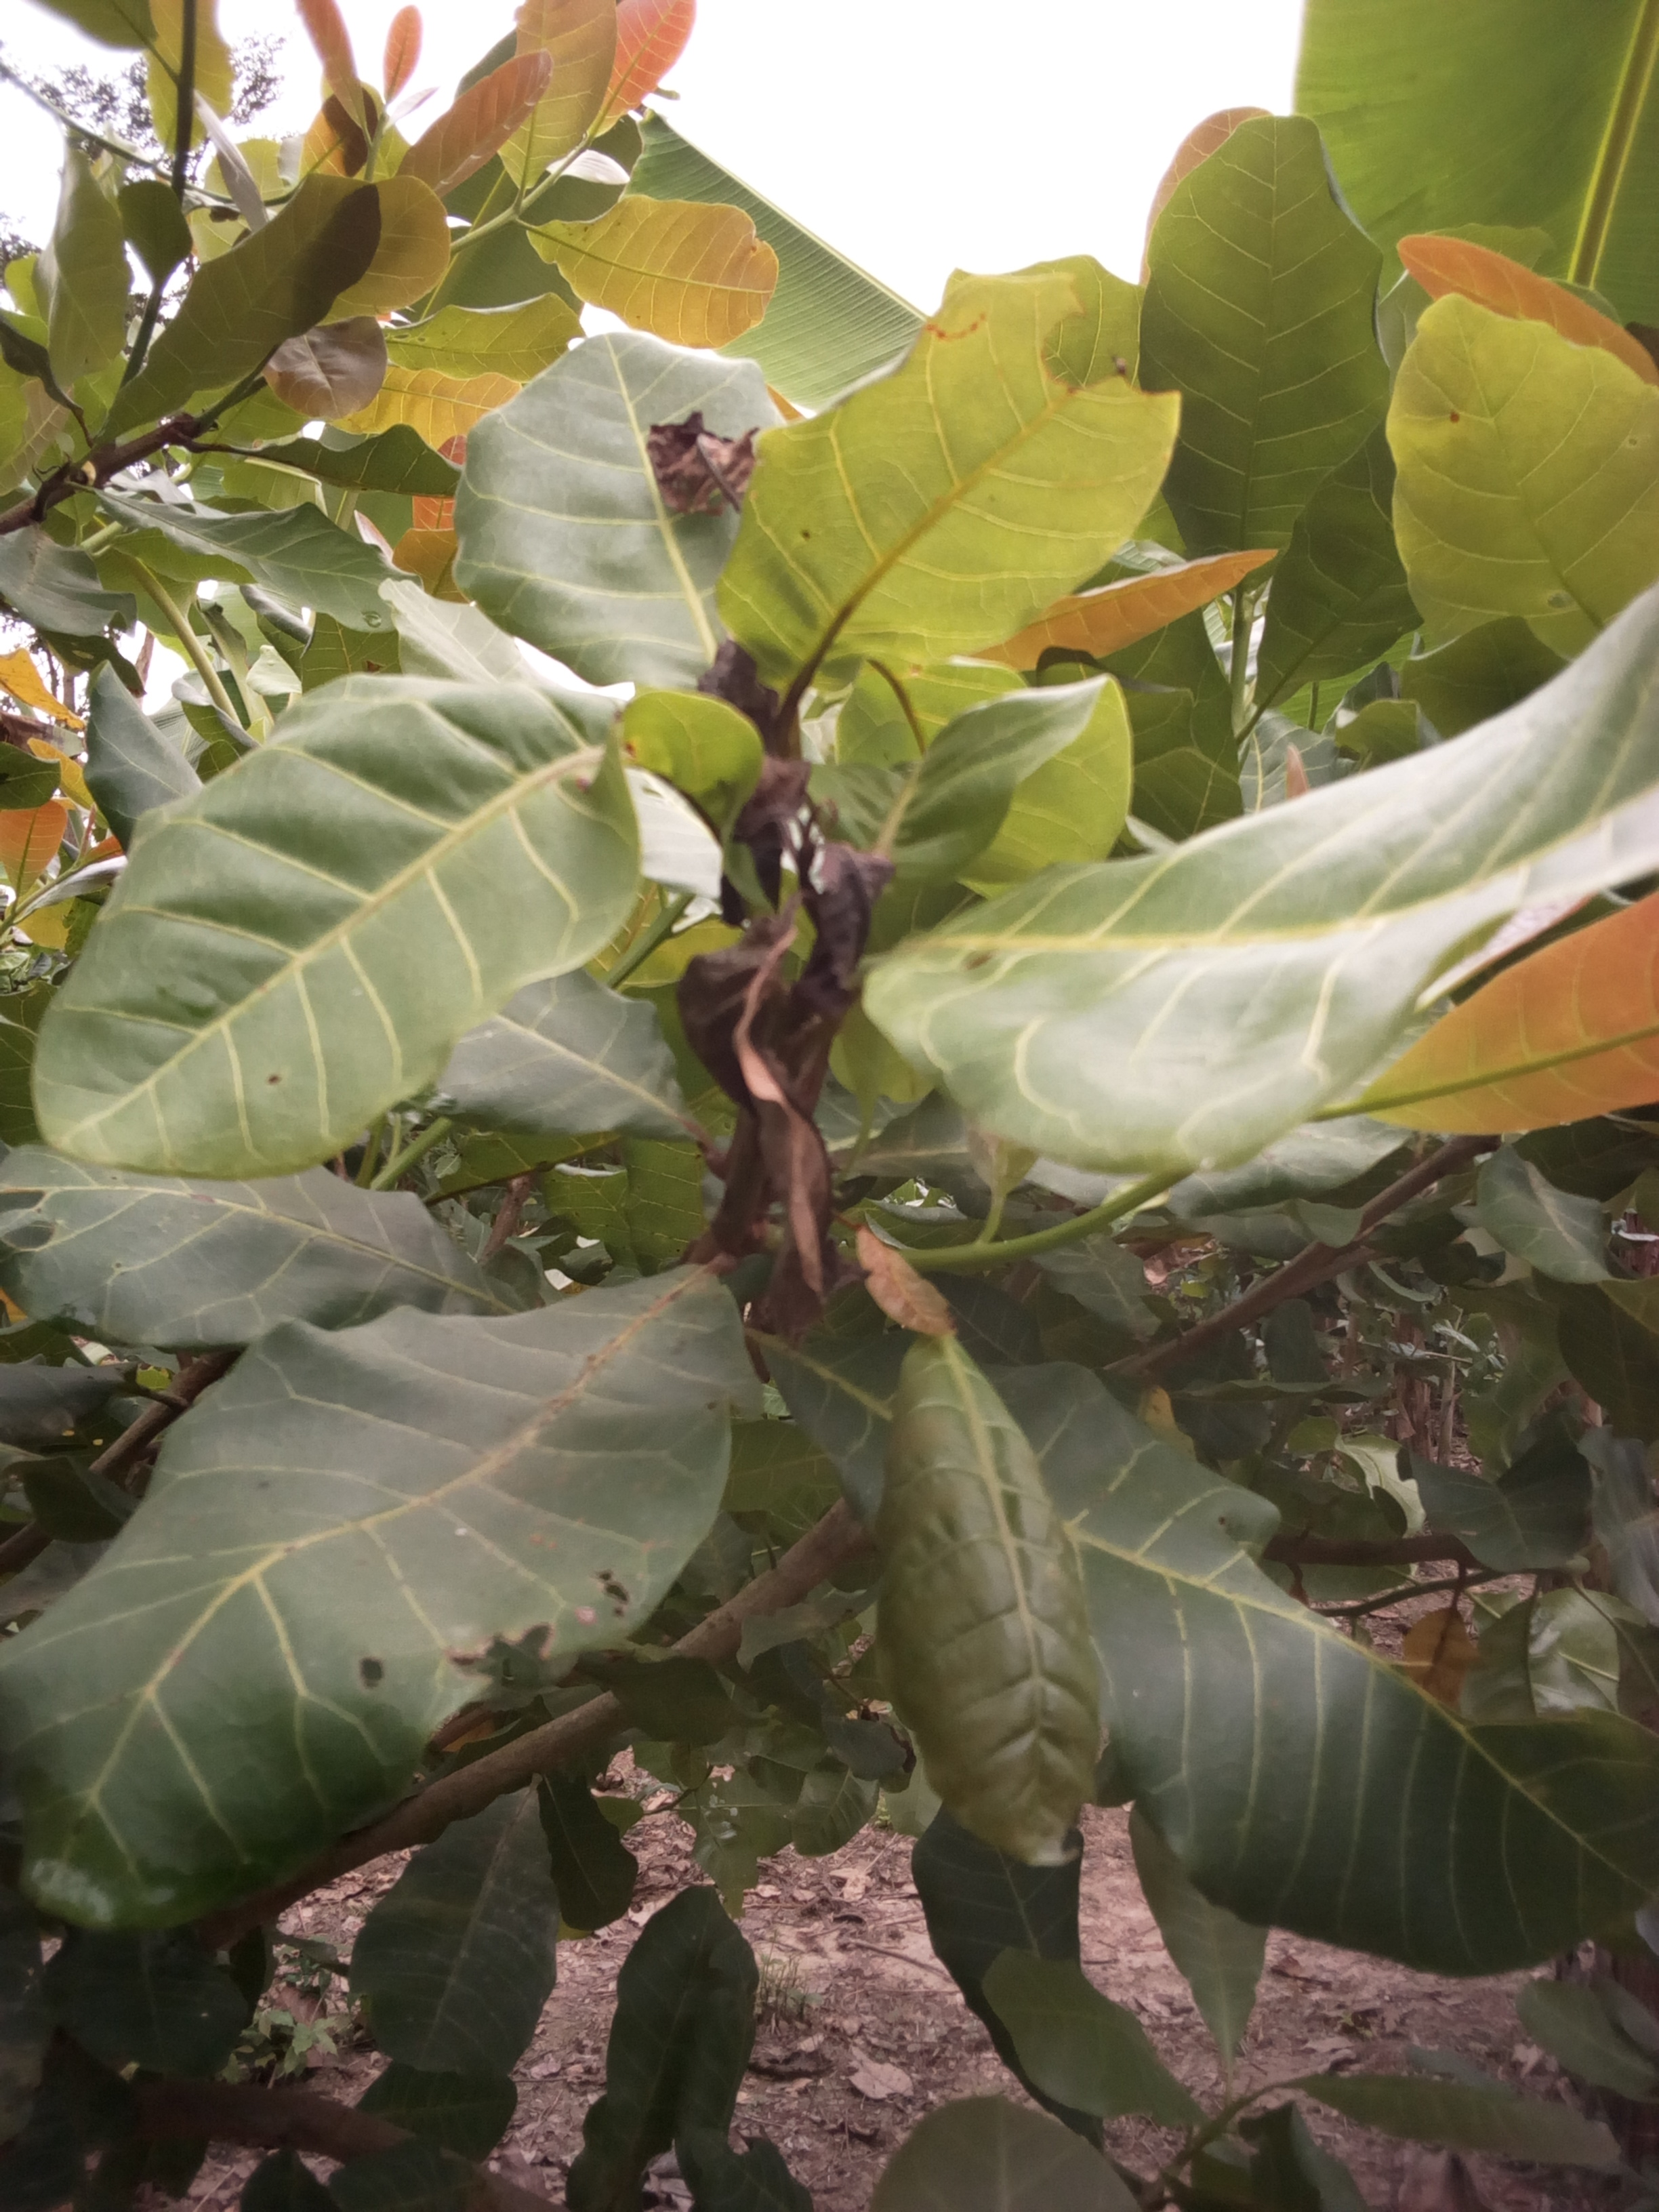Dessèchement des bourgeons: (694, 798, 870, 1306)
